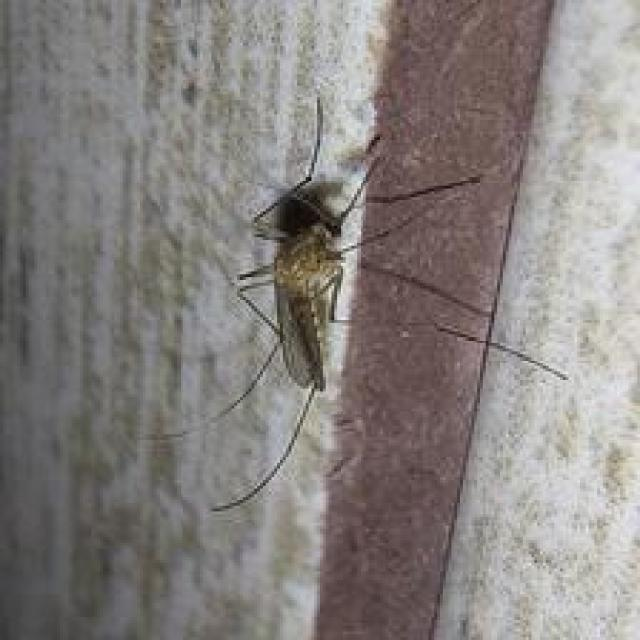Culex: (142, 94, 567, 514)
